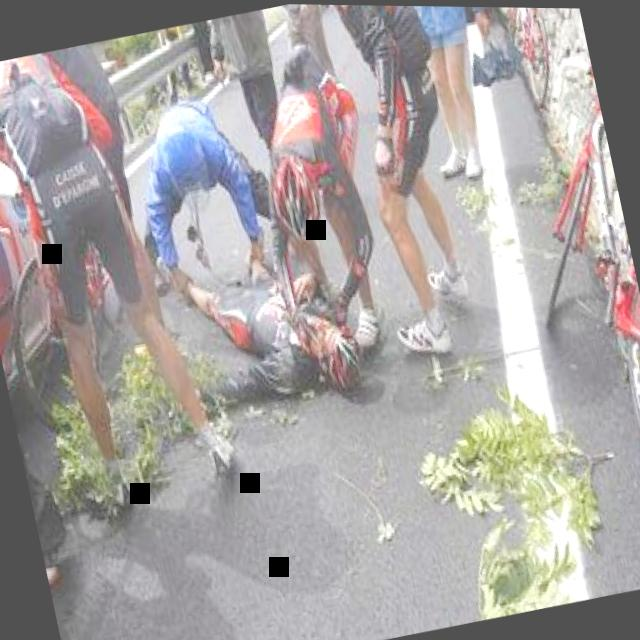Fall-Detected: (154, 202, 388, 440)
